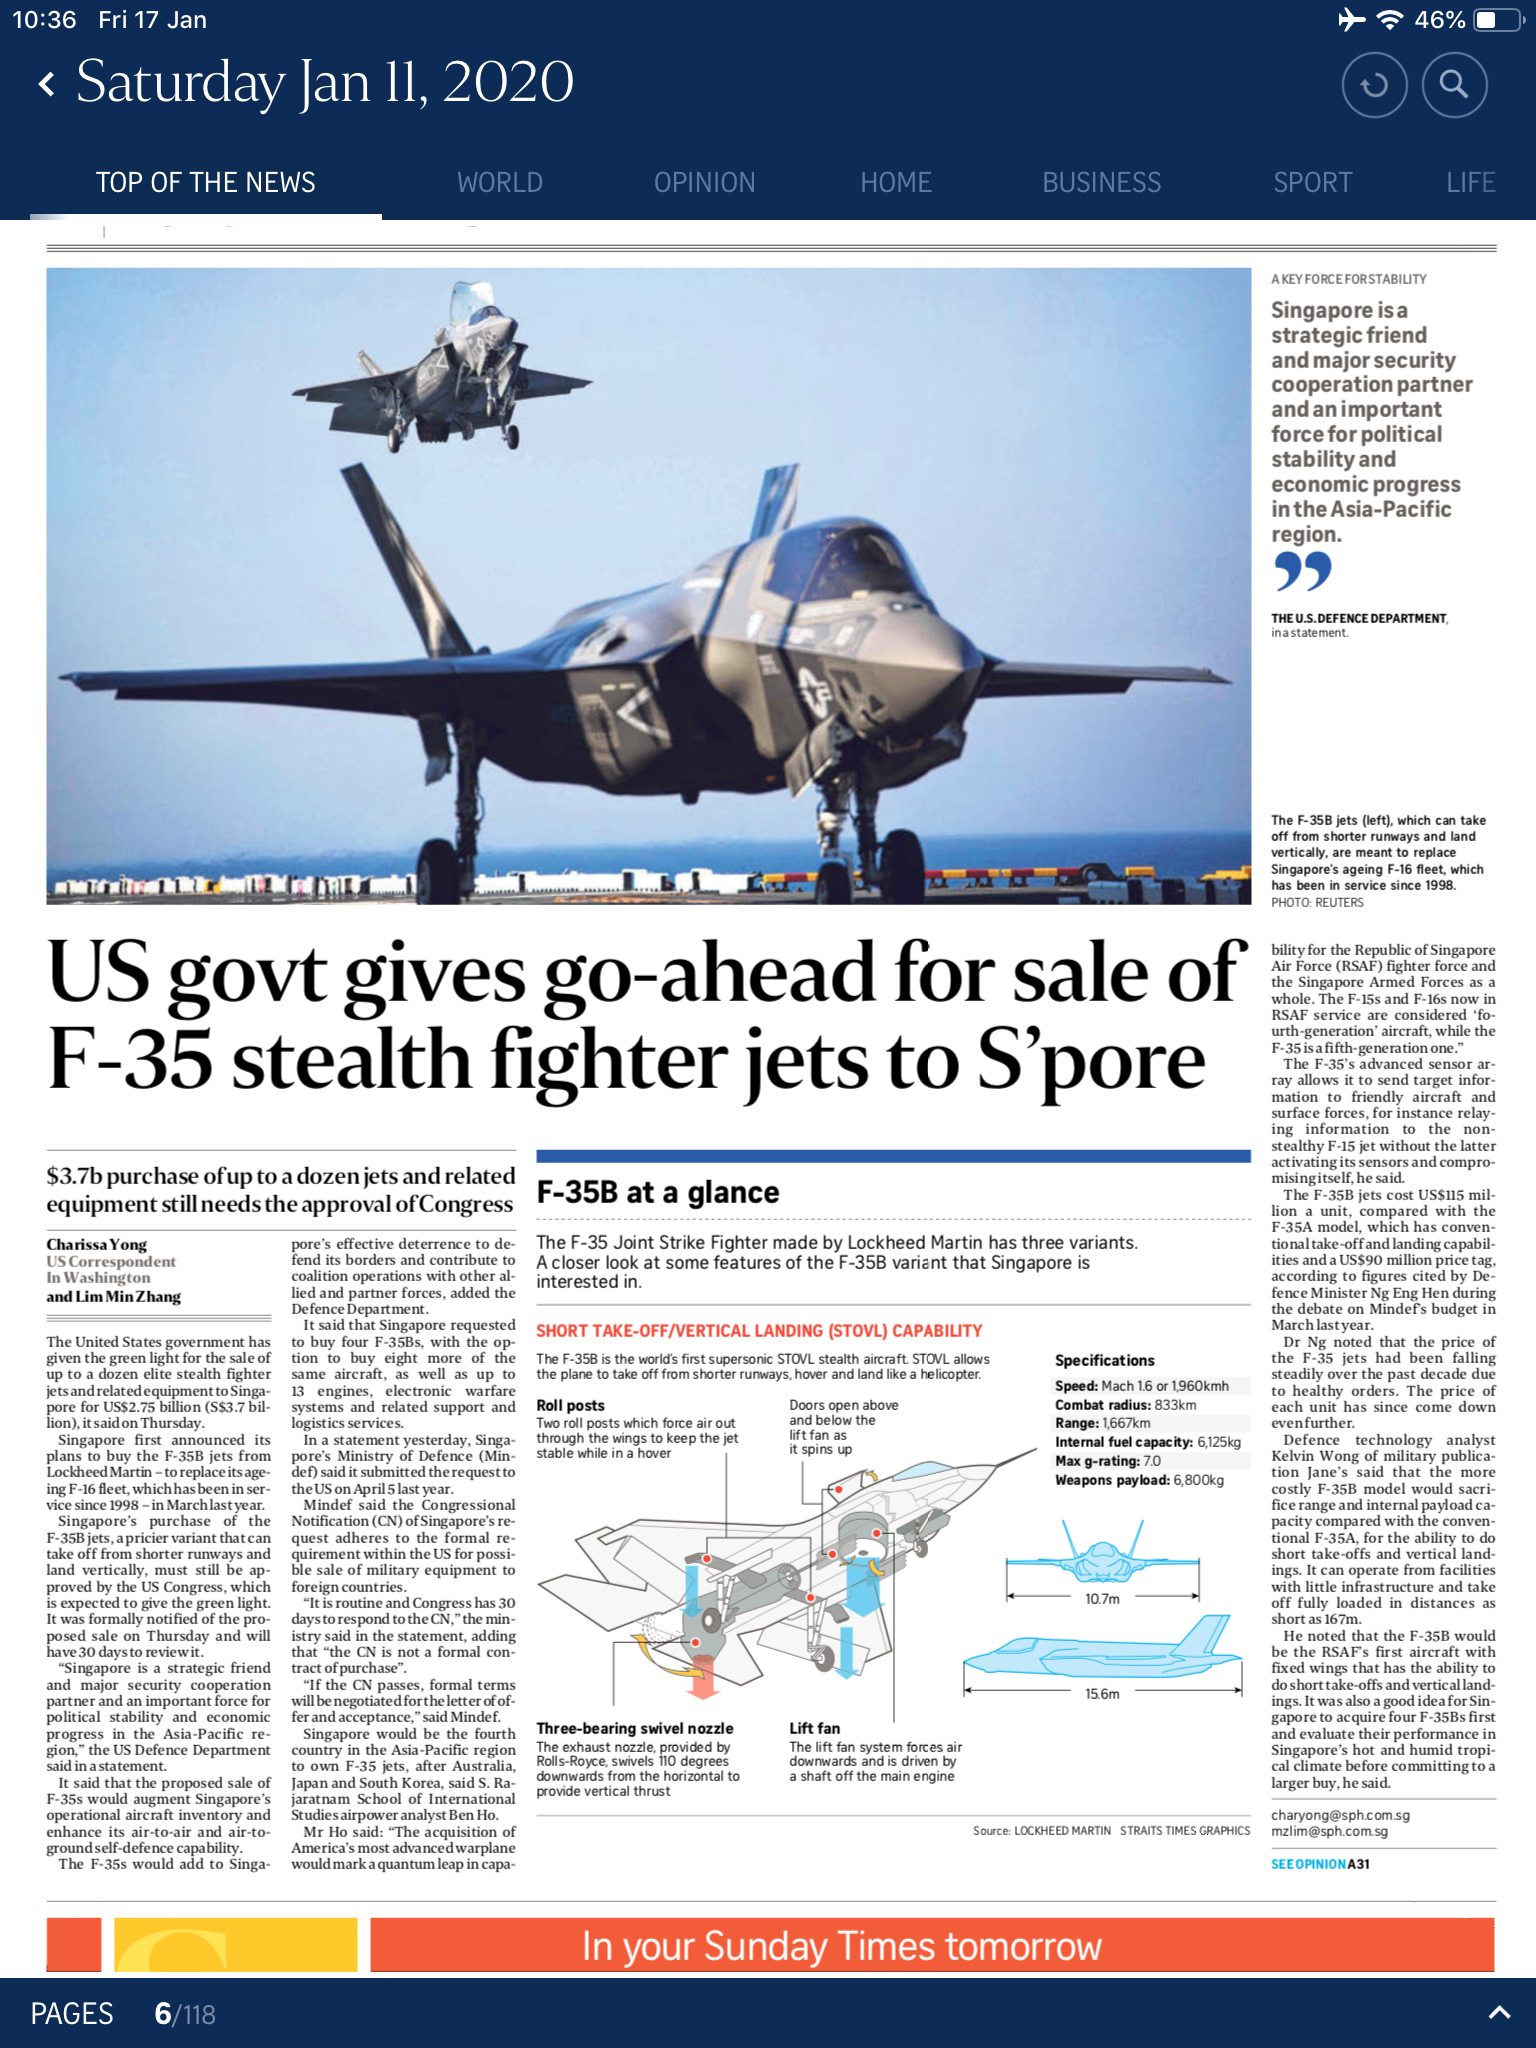Byline: (47, 1235, 186, 1306)
Headline: (48, 935, 1250, 1108), (537, 1179, 784, 1213)
Illustration: (1270, 811, 1489, 910), (970, 1819, 1250, 1838)
Image: (47, 268, 1254, 905), (539, 1450, 1039, 1700), (960, 1521, 1249, 1703)
Text: (1270, 942, 1501, 1792), (289, 1235, 520, 1872), (44, 1332, 273, 1872), (1273, 297, 1478, 643), (537, 1232, 1139, 1288), (534, 1322, 992, 1382), (1052, 1350, 1244, 1490), (44, 1163, 516, 1219), (534, 1717, 744, 1800), (534, 1398, 741, 1459), (789, 1721, 966, 1788), (789, 1398, 900, 1459)
